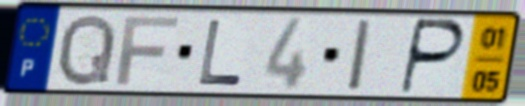4: (261, 14, 314, 94)
F: (113, 15, 182, 88)
I: (346, 17, 375, 94)
L: (195, 17, 244, 89)
P: (396, 16, 469, 97)
Q: (54, 12, 119, 89)
